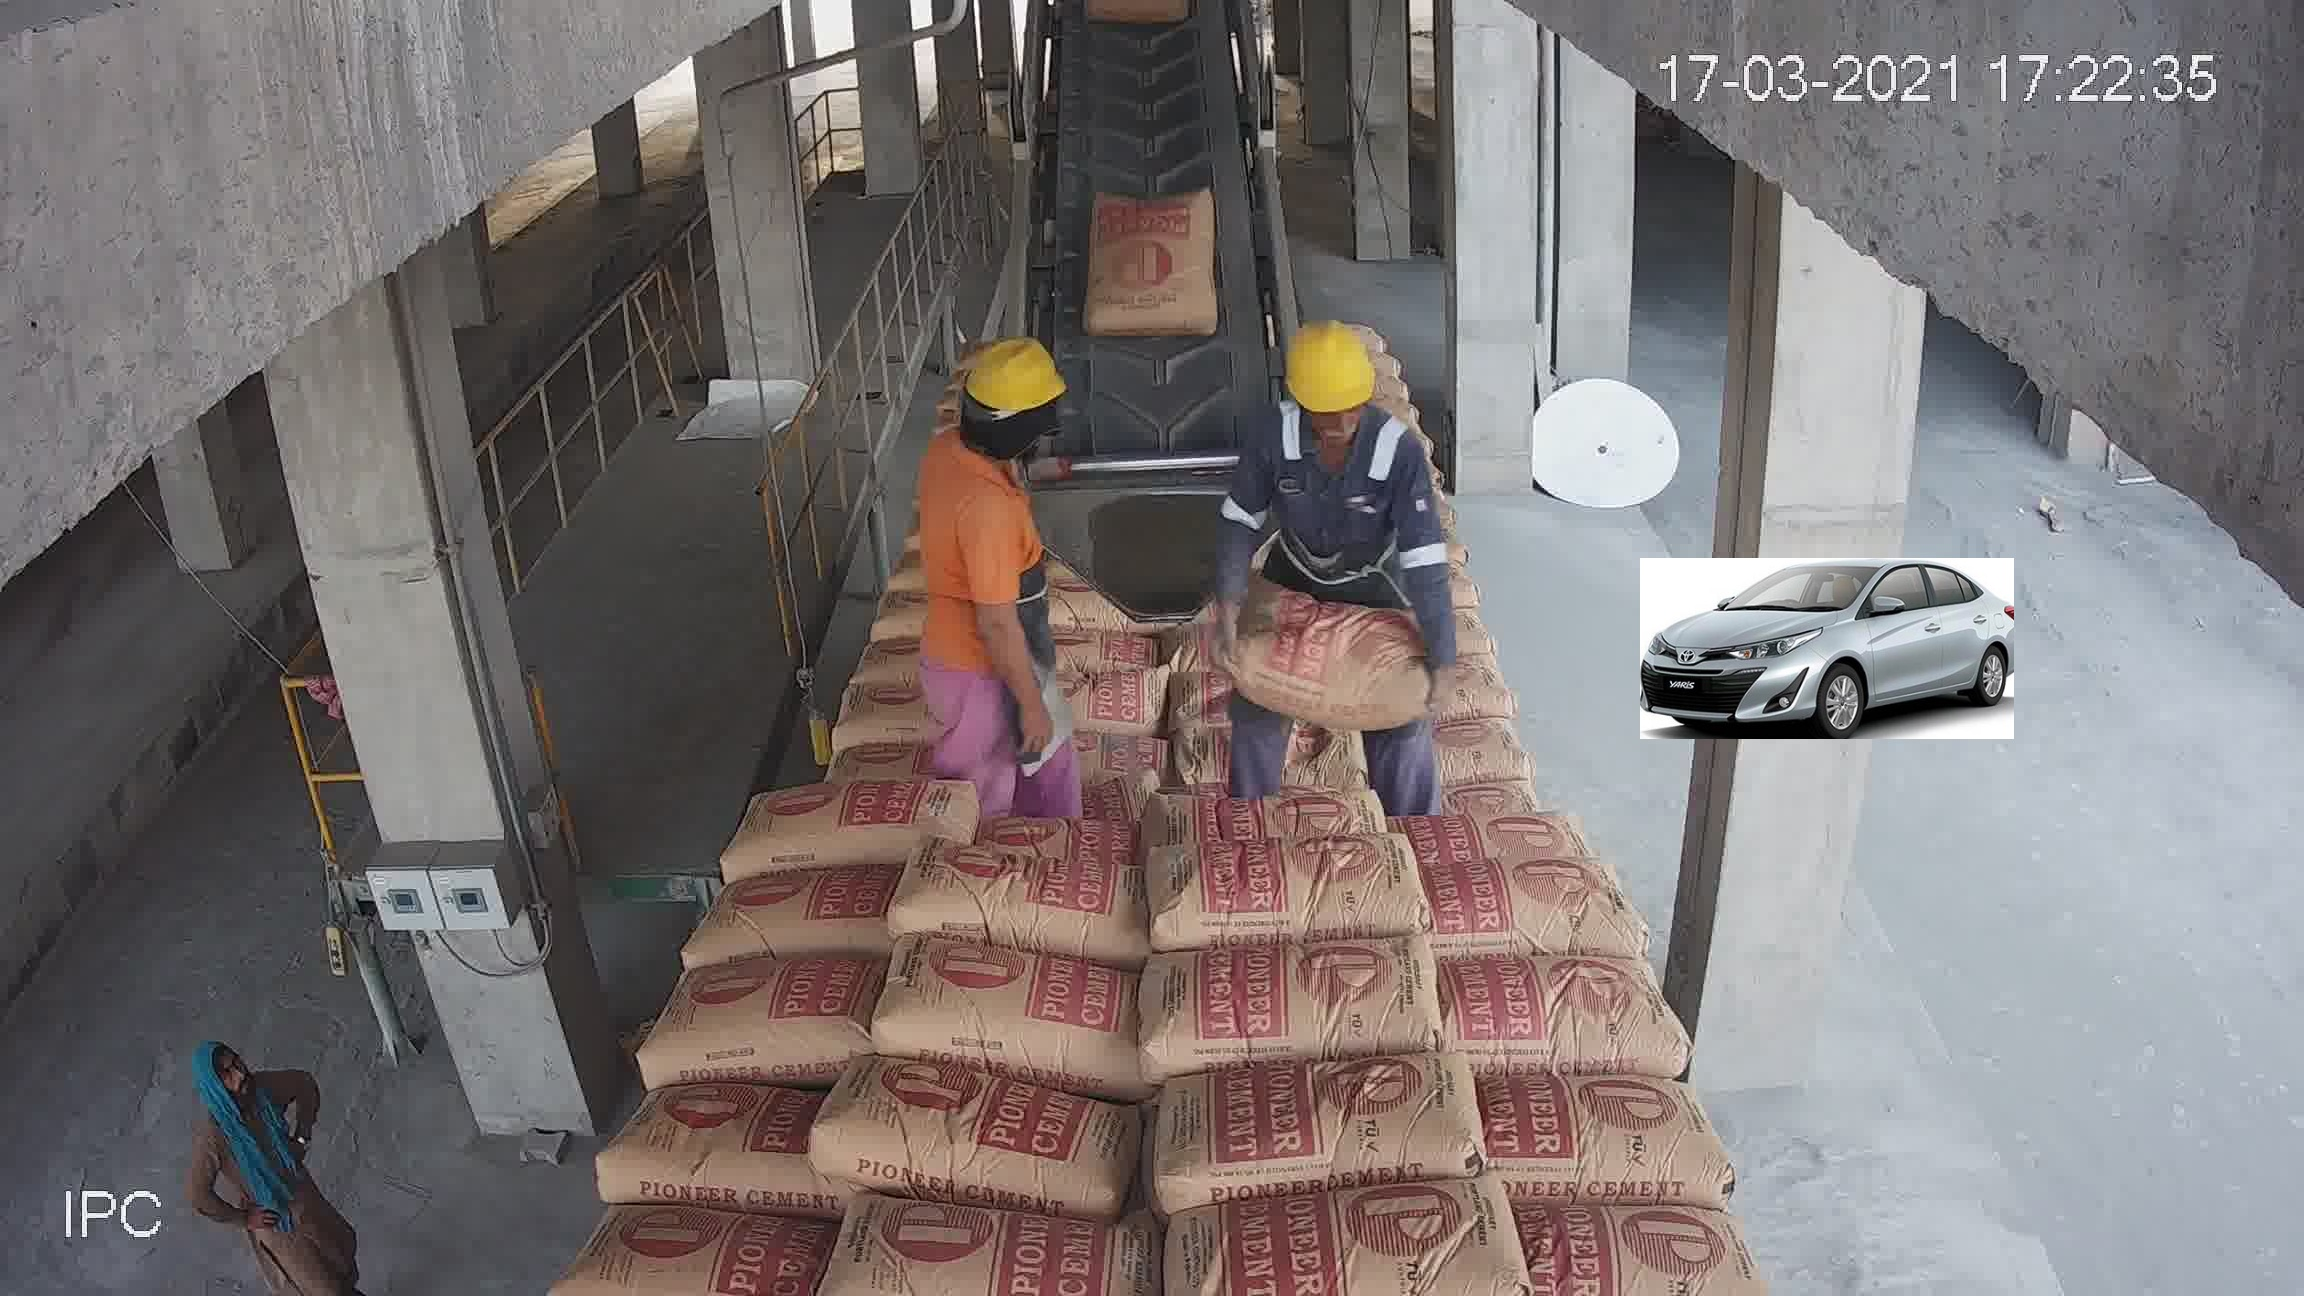bag: (1112, 182, 1230, 290)
bag_h: (1143, 1040, 1478, 1206), (1173, 1163, 1529, 1296), (1141, 820, 1426, 968), (1429, 946, 1676, 1105), (1154, 929, 1443, 1060), (832, 1082, 1138, 1195), (652, 943, 885, 1086), (601, 1070, 831, 1212), (880, 949, 1150, 1068), (1136, 725, 1393, 850), (1486, 1060, 1720, 1196), (1404, 850, 1643, 981), (881, 859, 1146, 967), (813, 1222, 1157, 1296), (1532, 1192, 1772, 1296), (888, 764, 1147, 855), (707, 771, 911, 877), (1146, 663, 1372, 756), (1407, 755, 1582, 869), (690, 858, 867, 956), (744, 709, 938, 798), (521, 1237, 817, 1293), (1393, 658, 1552, 753), (945, 684, 1144, 747), (843, 589, 1024, 639), (836, 631, 997, 684), (889, 510, 1036, 563), (878, 544, 1024, 592), (910, 459, 1014, 524), (788, 674, 938, 718), (1173, 554, 1279, 614), (1166, 481, 1291, 532), (1176, 616, 1264, 661), (1187, 530, 1275, 571)
belt: (1021, 0, 1277, 419)
